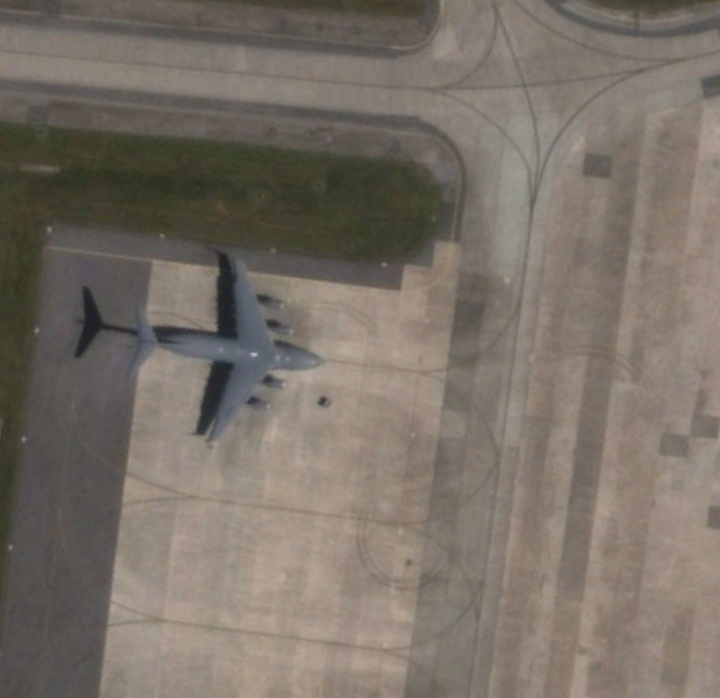A3: (115, 245, 326, 456)
